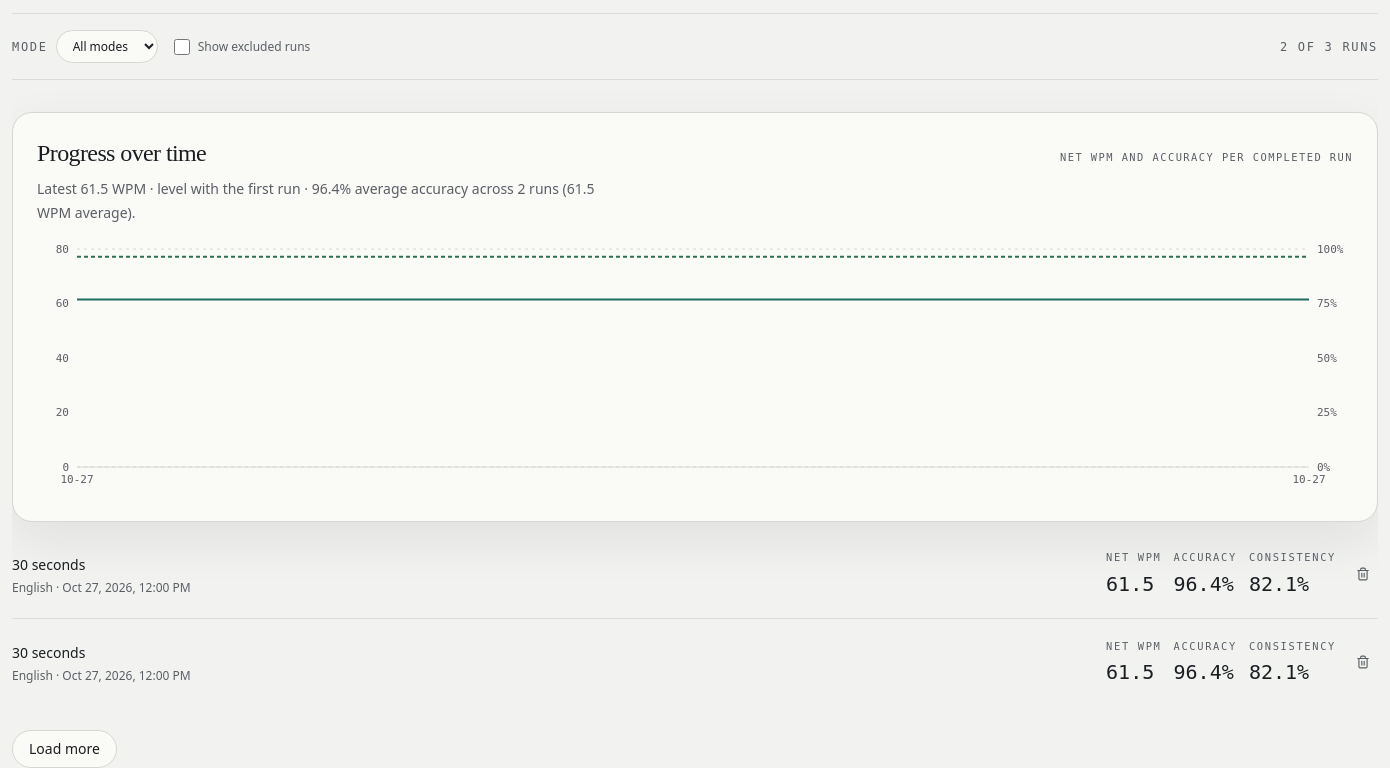
it: history page › resets paging when a filter changes
(page scrolled)
Expected: the text "2 of 3 runs" is shown, 1280,38 -> 1378,54
Click the button "Load more" at (64, 749), box 12,730 -> 117,767
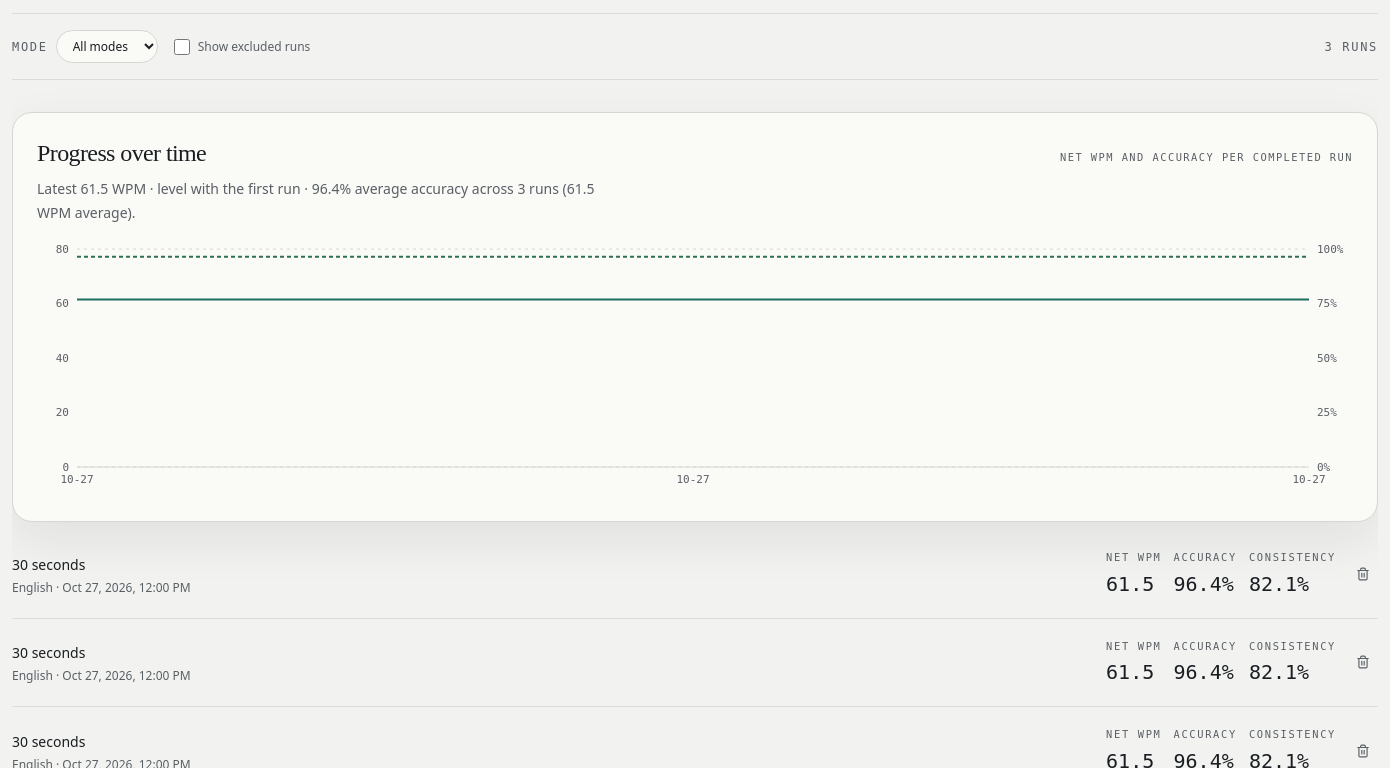
Expected: the text "3 runs" is shown, 1325,38 -> 1378,54
Select "Words" in the dropdown named "Filter by mode" at (107, 46), box 56,30 -> 158,63
(page scrolled)
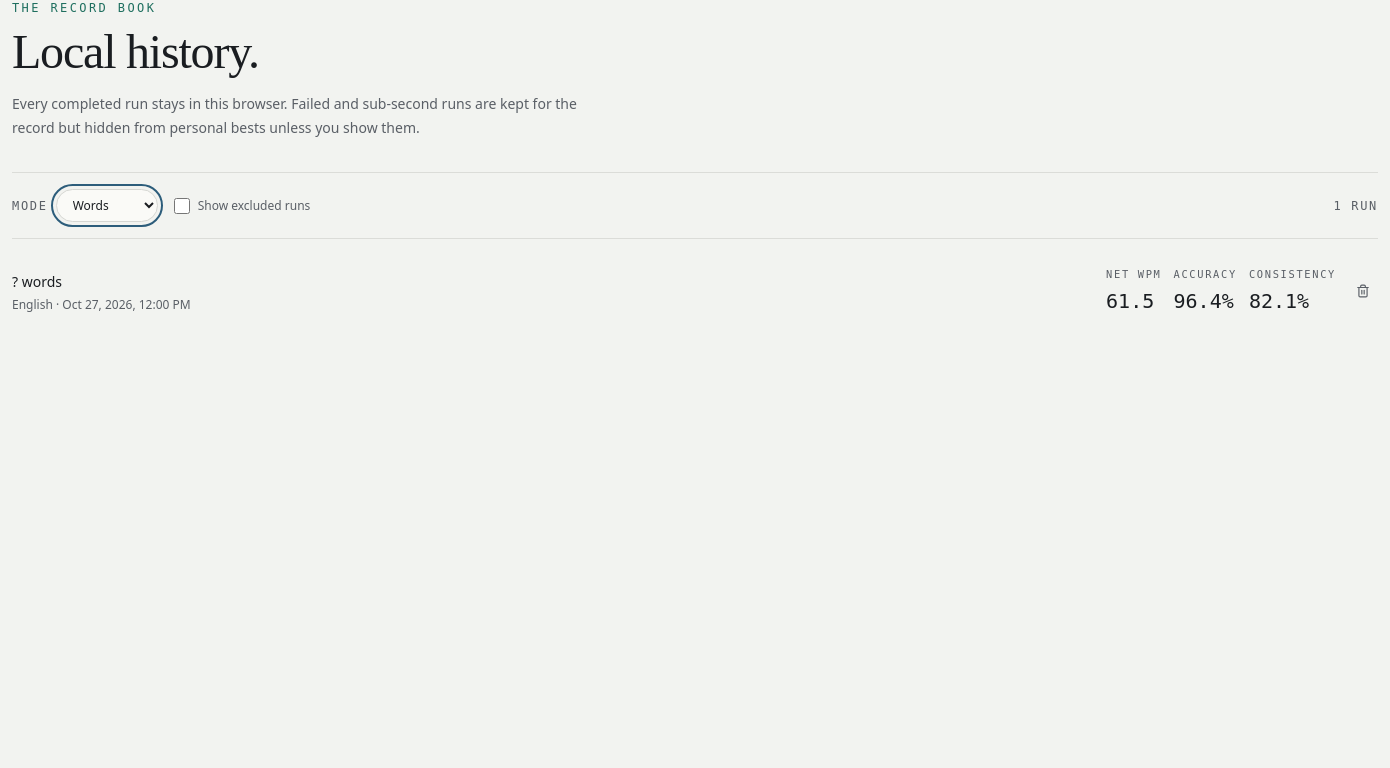
Now the text "1 run" is shown, box 1334,198 -> 1378,214
